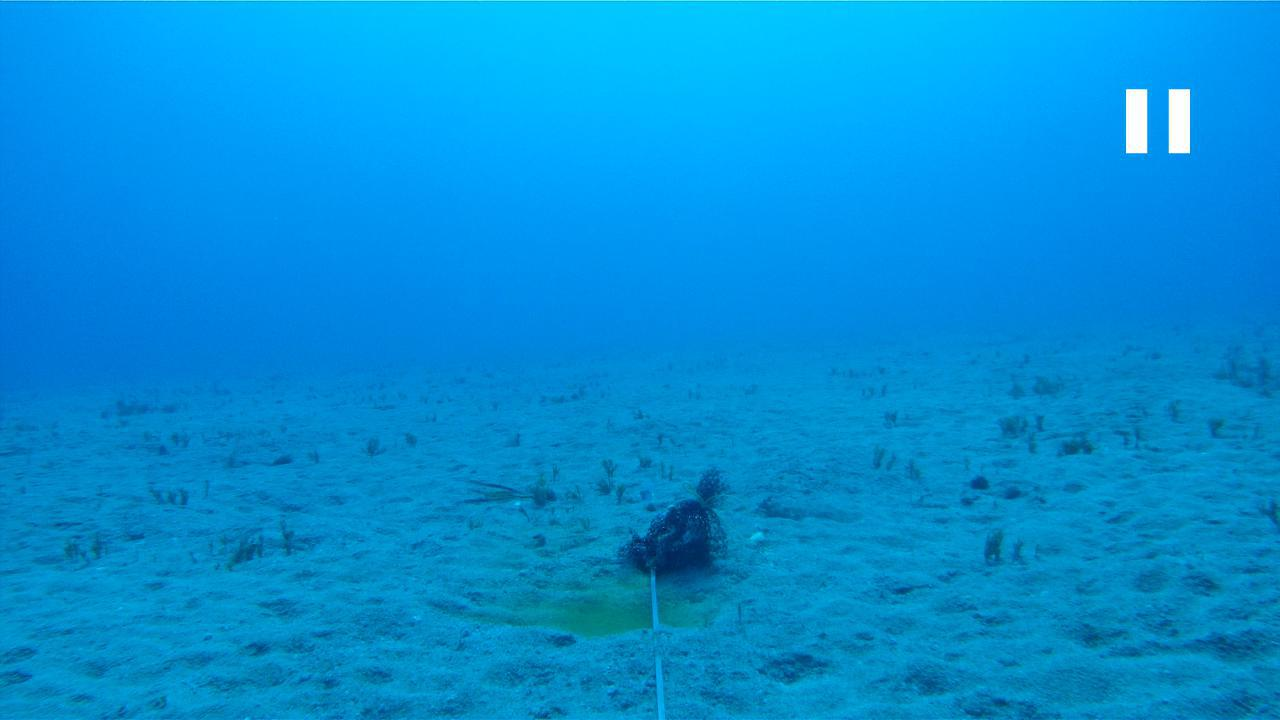bothus: (754, 490, 858, 522)
